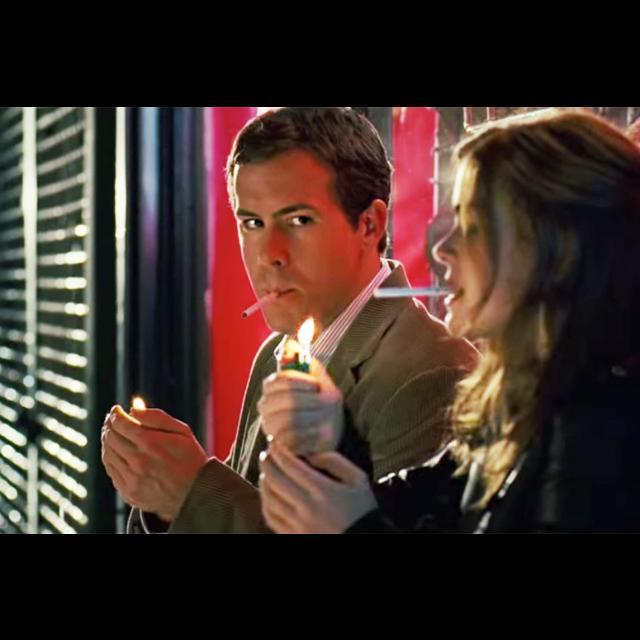rokok: (366, 282, 472, 308), (229, 287, 281, 319)
